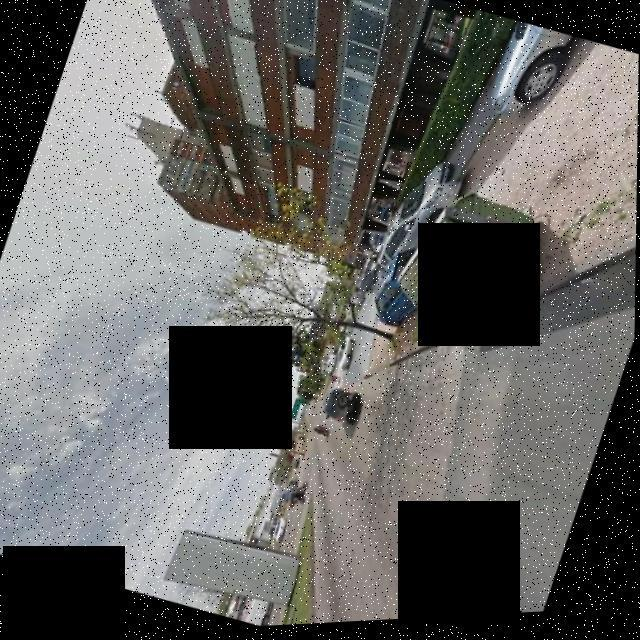bin: (381, 171, 571, 364)
